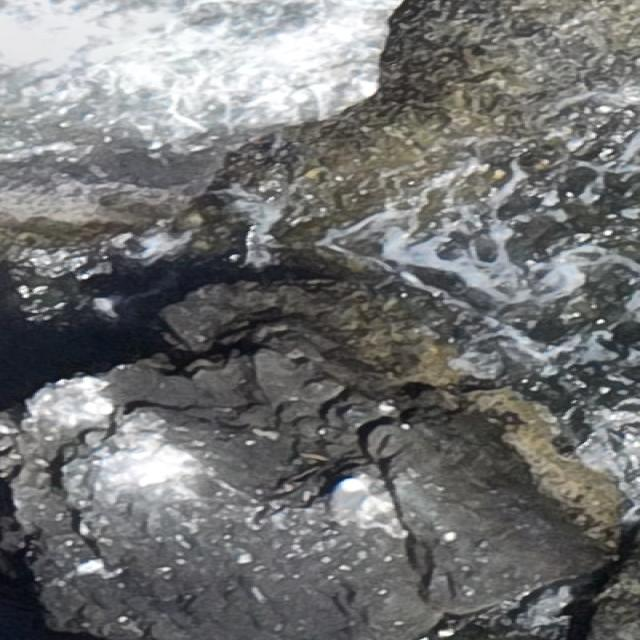umineko: (330, 477, 371, 523)
